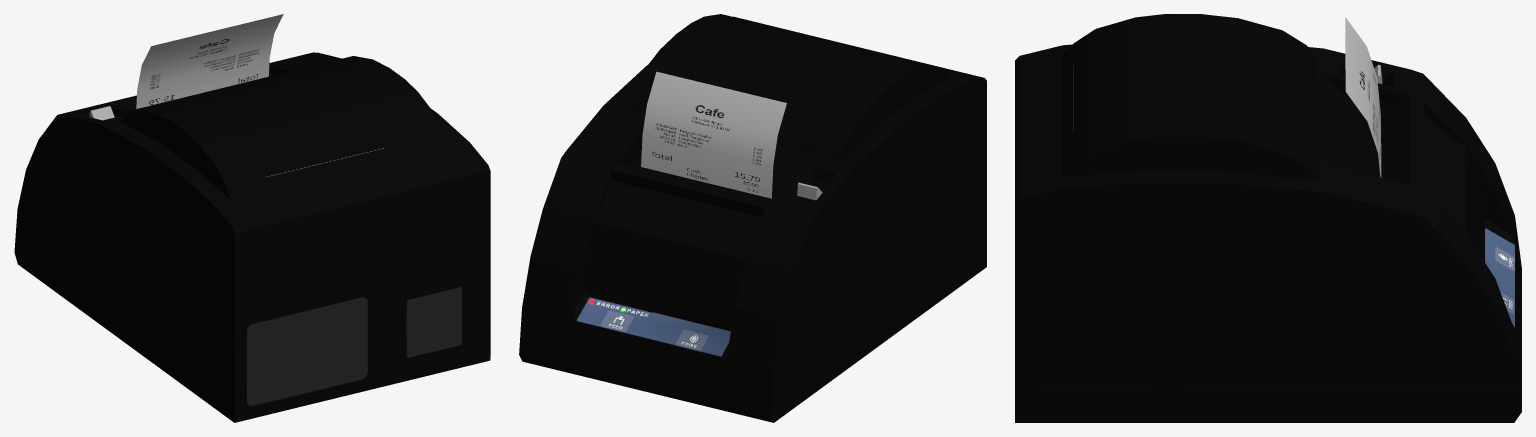
The model's file is SM_Till_Receipt_01.glb.
The picture shows the model from 3 angles, left to right: view 1: azimuth 30°, elevation 25°; view 2: azimuth 150°, elevation 25°; view 3: azimuth 270°, elevation 25°; orthographic projection. The views are drawn at different scales.
Parts seen in each view (by area): view 1: SM_Till_Receipt_01; view 2: SM_Till_Receipt_01; view 3: SM_Till_Receipt_01.
Part boxes in pixels (x1,y1,x2,y2): SM_Till_Receipt_01: (14,14,490,422); SM_Till_Receipt_01: (519,14,986,422); SM_Till_Receipt_01: (1015,14,1521,422).
Size of the model in its own units: 0.1632 by 0.1567 by 0.243.
Materials: 1 (1 with a texture image).
